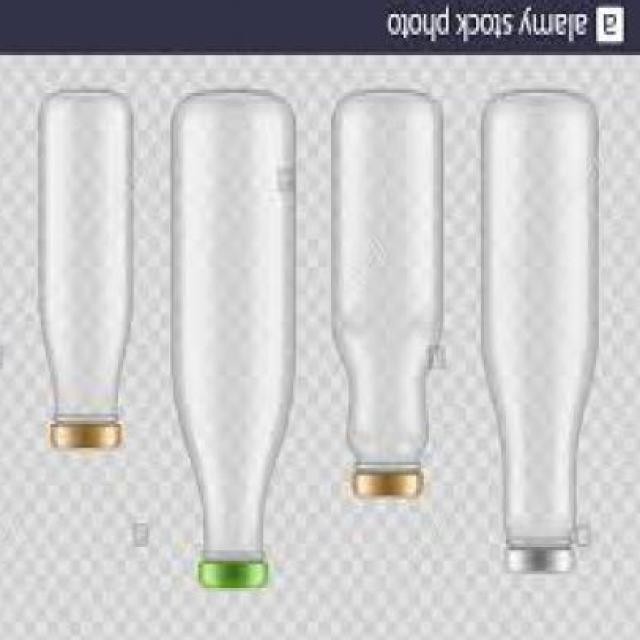kaca: (175, 93, 298, 567), (484, 93, 599, 550), (336, 96, 444, 479), (41, 96, 132, 427)
